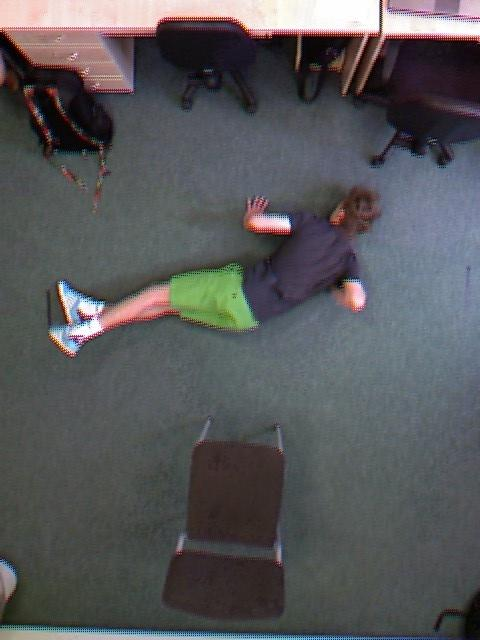fall: (150, 37, 289, 498)
